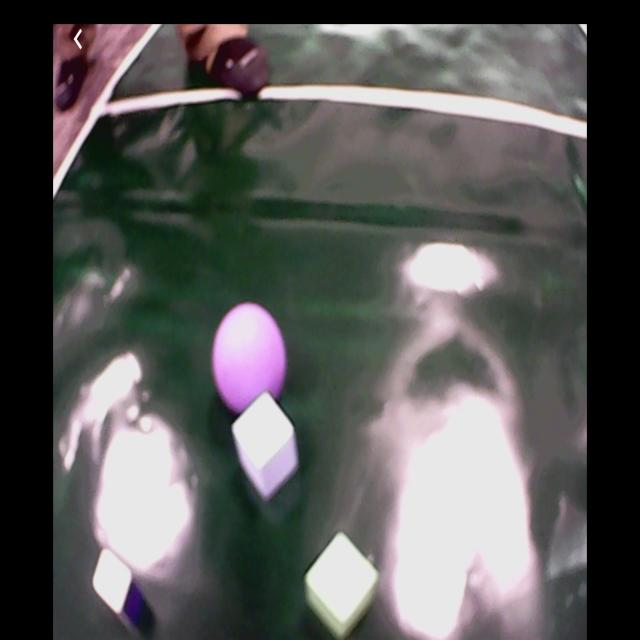ball: (214, 304, 287, 407)
